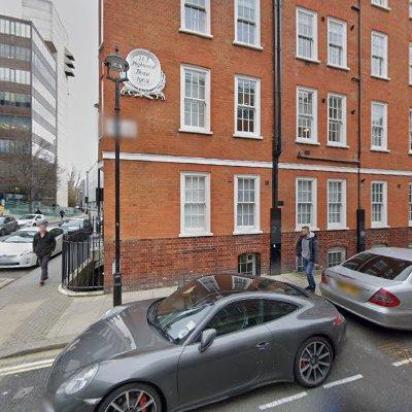stationary-car-onstreet: (39, 269, 345, 411), (316, 244, 412, 340), (0, 223, 63, 271), (60, 216, 92, 242), (17, 213, 46, 228), (0, 215, 18, 237)
